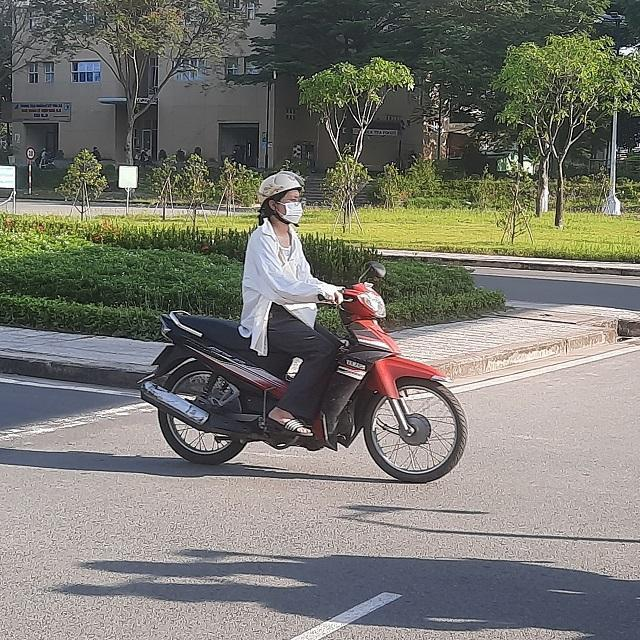Helmet: (256, 172, 304, 228)
